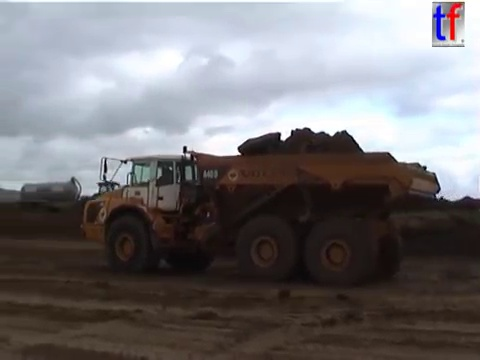truck: (77, 144, 444, 289), (14, 173, 126, 216)
